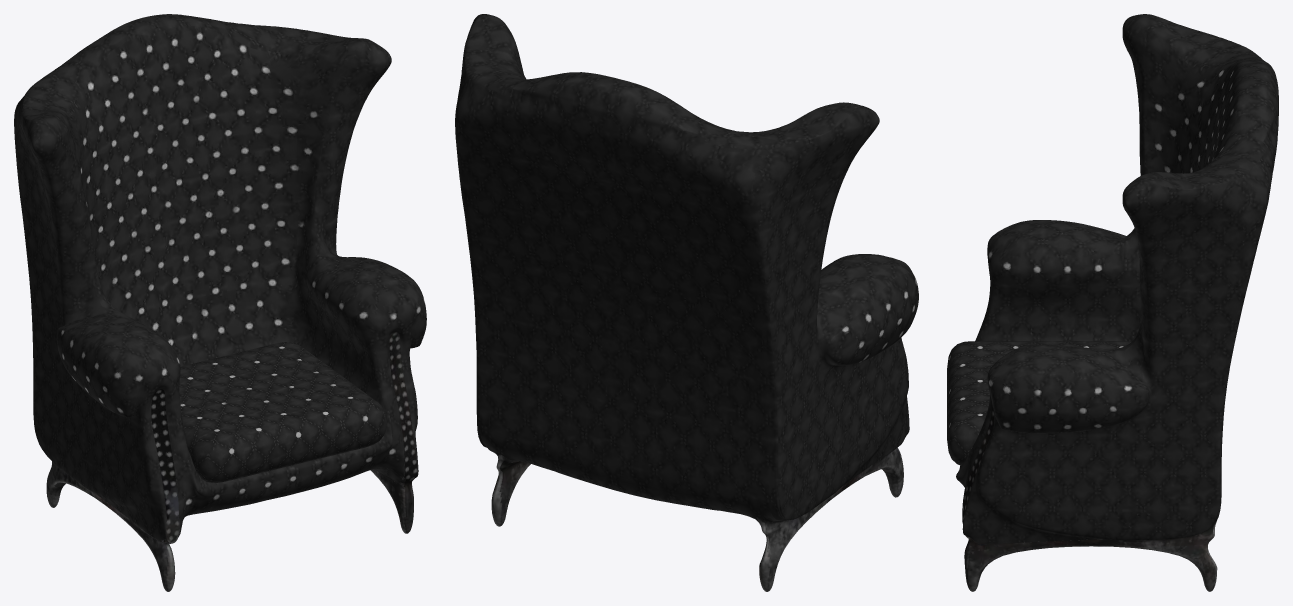
Rendered from chair-transformed.glb.
The picture shows the model from 3 angles, left to right: view 1: azimuth 30°, elevation 25°; view 2: azimuth 150°, elevation 25°; view 3: azimuth 270°, elevation 25°; orthographic projection. The views are drawn at different scales.
Visible parts, largest first — view 1: chair, cushion; view 2: chair; view 3: chair, cushion.
Boxes of the visible parts, x1=… form: chair: x1=14, y1=14, x2=426, y2=591; cushion: x1=172, y1=342, x2=387, y2=482; chair: x1=455, y1=14, x2=918, y2=591; chair: x1=956, y1=14, x2=1278, y2=591; cushion: x1=947, y1=341, x2=1131, y2=466.
Size of the model in its own units: 1.32 by 1.56 by 1.02.
3 materials, 3 textured.
